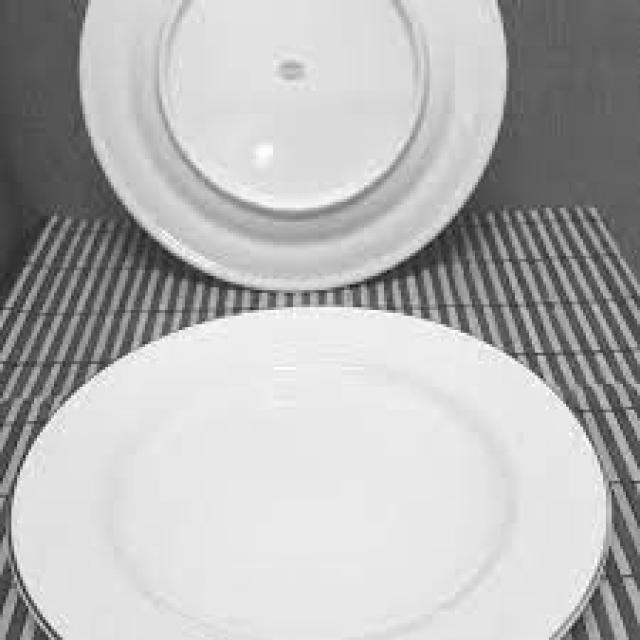dish: (6, 245, 633, 613)
